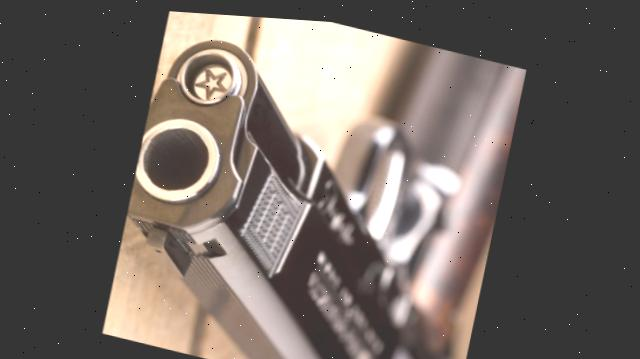pistol: (103, 6, 527, 359)
